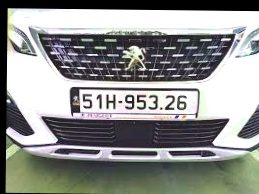Bien-so: (79, 89, 198, 115)
